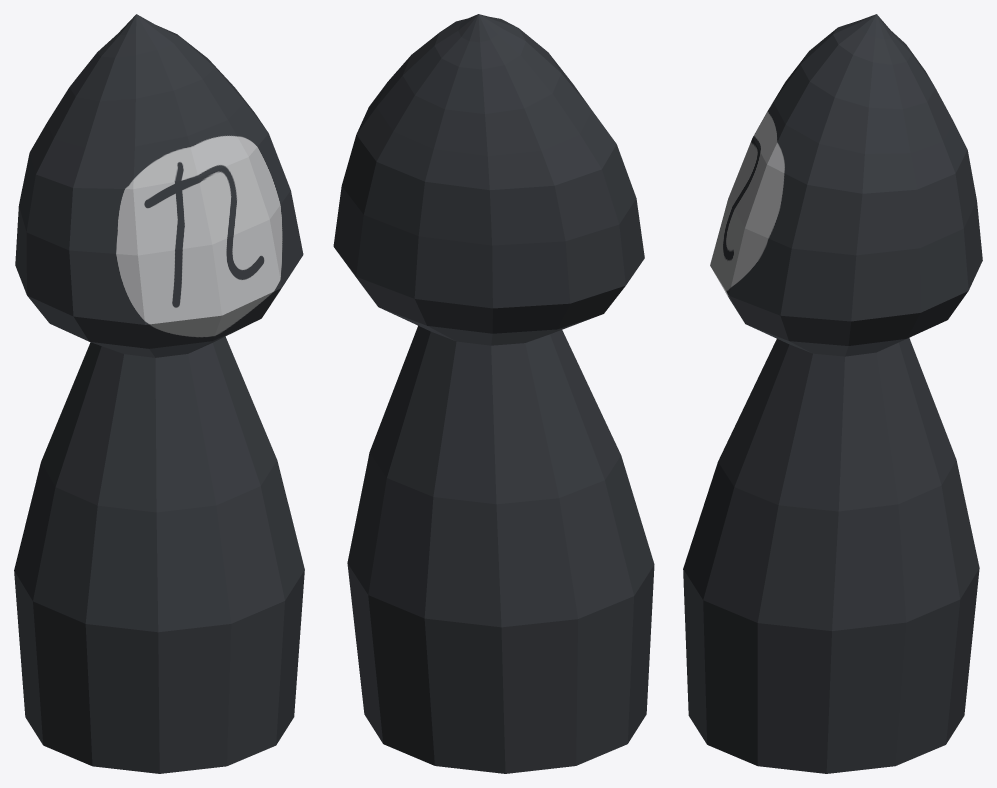
The model's file is Jumala3.fbx.
The picture shows the model from 3 angles, left to right: view 1: azimuth 30°, elevation 25°; view 2: azimuth 150°, elevation 25°; view 3: azimuth 270°, elevation 25°; orthographic projection. The views are drawn at different scales.
Visible parts, largest first — view 1: Jumala3; view 2: Jumala3; view 3: Jumala3.
Boxes of the visible parts, x1=… form: Jumala3: x1=14, y1=14, x2=304, y2=773; Jumala3: x1=333, y1=14, x2=654, y2=773; Jumala3: x1=683, y1=14, x2=982, y2=773.
Bounding box in the file's own units: 374 × 941 × 364.
